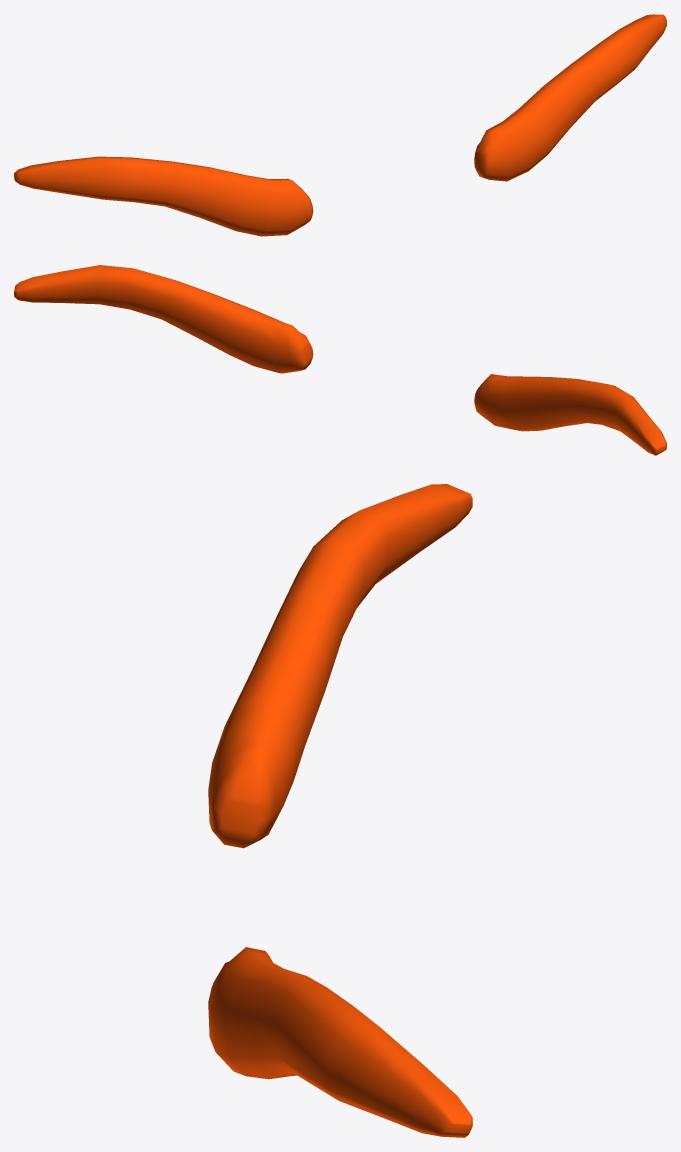
The model's file is Eyebrows_17_06.fbx.
The picture shows the model from 3 angles, top to bottom: view 1: azimuth 30°, elevation 25°; view 2: azimuth 150°, elevation 25°; view 3: azimuth 270°, elevation 25°; orthographic projection. The views are drawn at different scales.
Parts seen in each view (by area): view 1: Eyebrows_17_06; view 2: Eyebrows_17_06; view 3: Eyebrows_17_06.
Boxes of the visible parts, x1=… form: Eyebrows_17_06: x1=14, y1=14, x2=666, y2=236; Eyebrows_17_06: x1=14, y1=265, x2=666, y2=455; Eyebrows_17_06: x1=208, y1=484, x2=472, y2=1137.
Size of the model in its own units: 18.79 by 2.52 by 3.3.
